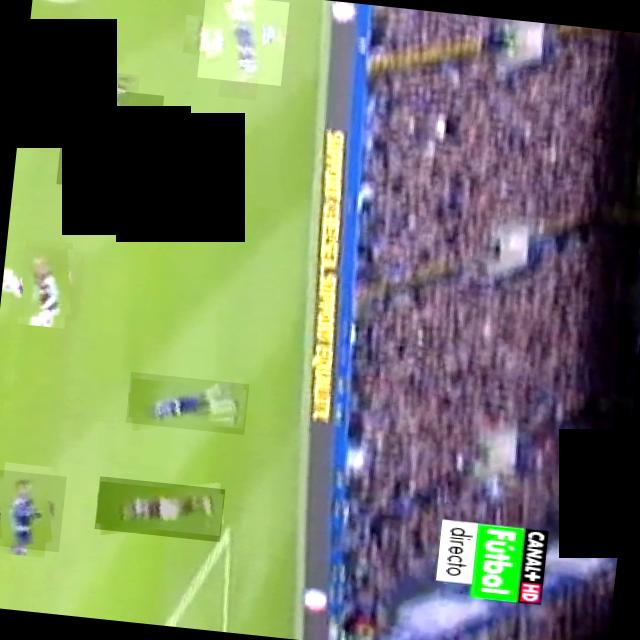soccer-player: (56, 84, 164, 193), (94, 475, 225, 541), (125, 371, 249, 434), (197, 0, 289, 84), (7, 243, 84, 320), (0, 467, 66, 551)
